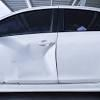doorouter-dent: (0, 35, 56, 84)
